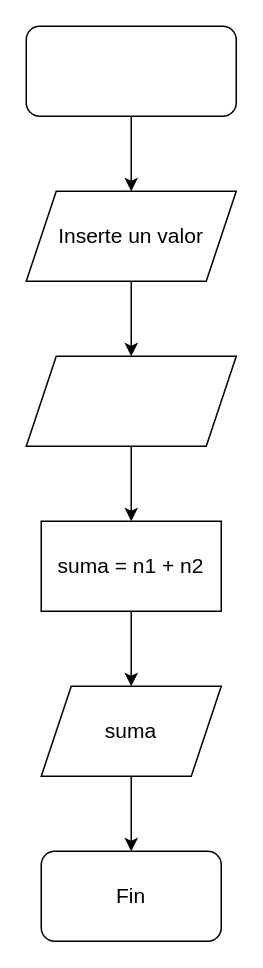
The diagram is 263 pixels wide and 968 high, and some of its shapes have lost their labels. Here are the shapes that lost their labels. From the top down, the centre of each, then its label:
At pixel 130 70: "Inicio".
At pixel 130 400: "Inserte otro valor".
